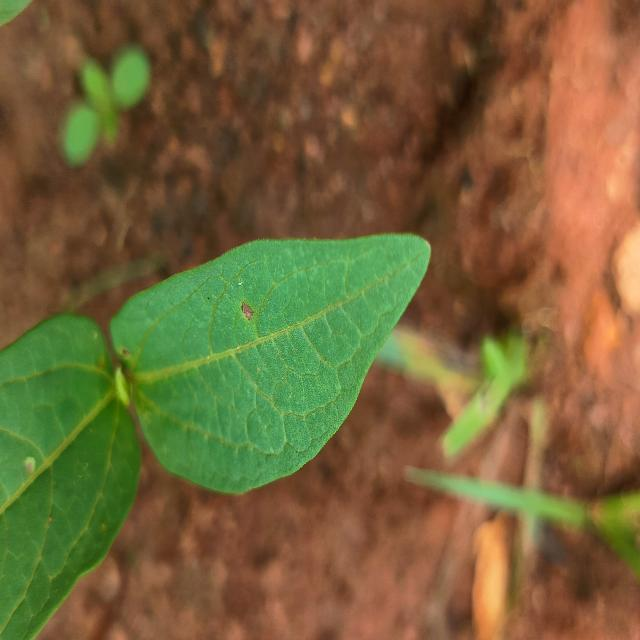Black gram_healthy: (111, 233, 433, 495), (1, 306, 143, 640)
